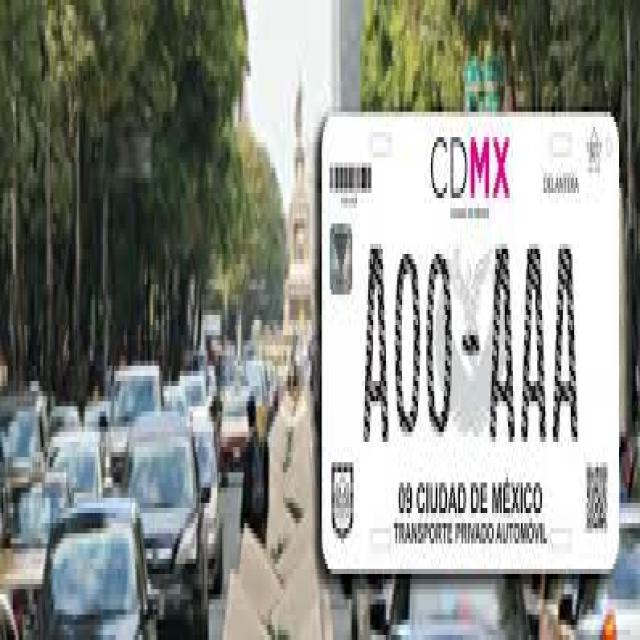placa: (354, 223, 613, 463)
